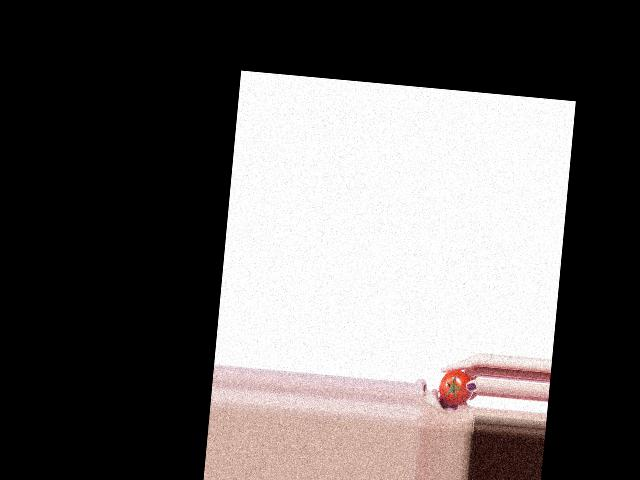tomato: (438, 368, 475, 405)
